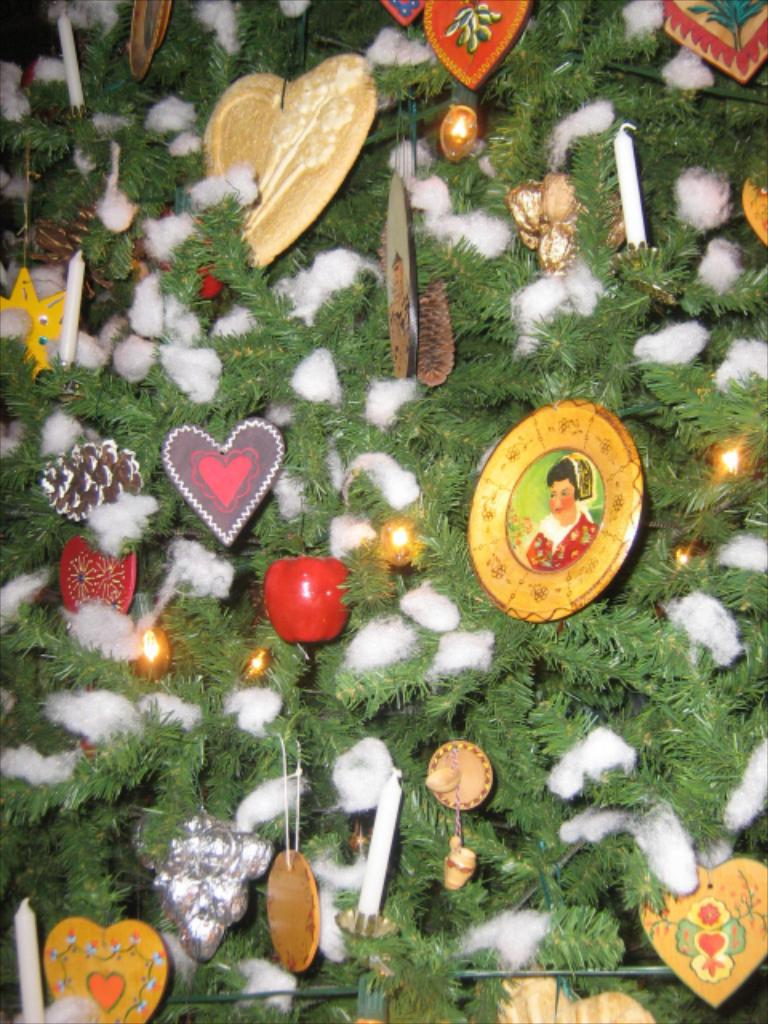Tomato: (262, 544, 355, 643)
